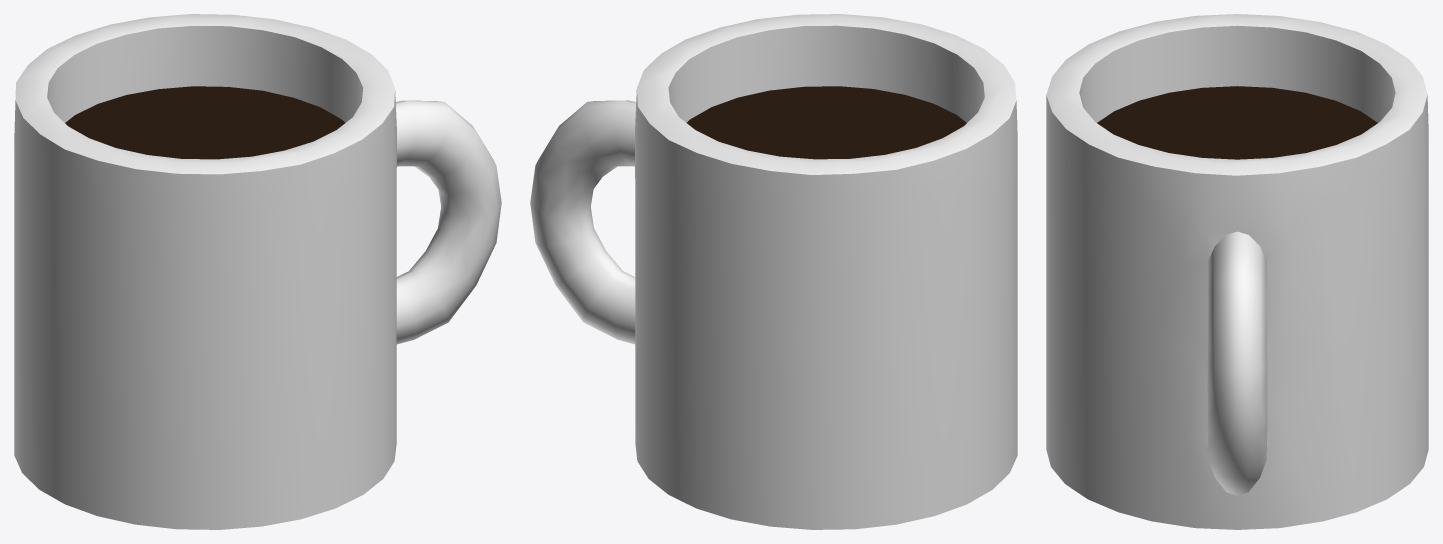
The model's file is Kaffekopp.fbx.
3 views of the same model, side by side, from view 1: azimuth 30°, elevation 25°; view 2: azimuth 150°, elevation 25°; view 3: azimuth 270°, elevation 25° (orthographic).
Parts seen in each view (by area): view 1: Cylinder; view 2: Cylinder; view 3: Cylinder.
Part boxes in pixels (left/top/right/bottom): Cylinder: left=14, top=14, right=501, bottom=529; Cylinder: left=530, top=14, right=1017, bottom=529; Cylinder: left=1046, top=14, right=1428, bottom=529.
Size of the model in its own units: 12.35 by 9.22 by 8.91.
Materials: 1 (1 with a texture image).
